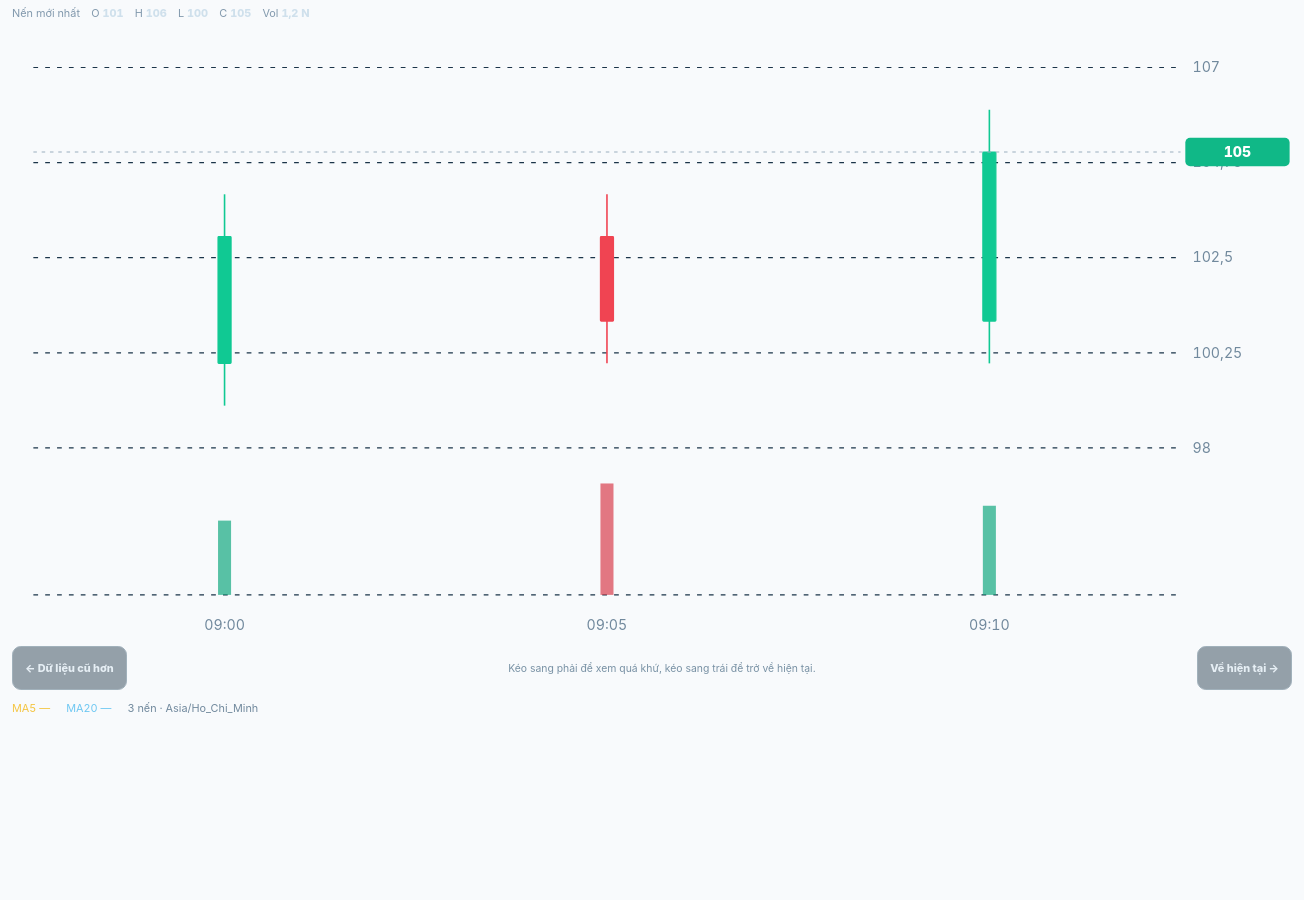
Test: MarketCandlestickChart › shows OHLC, volume, and candle movement on hover and keyboard focus
Hover over the button named "Xem nến" at (224, 331), box [33, 68, 416, 595]
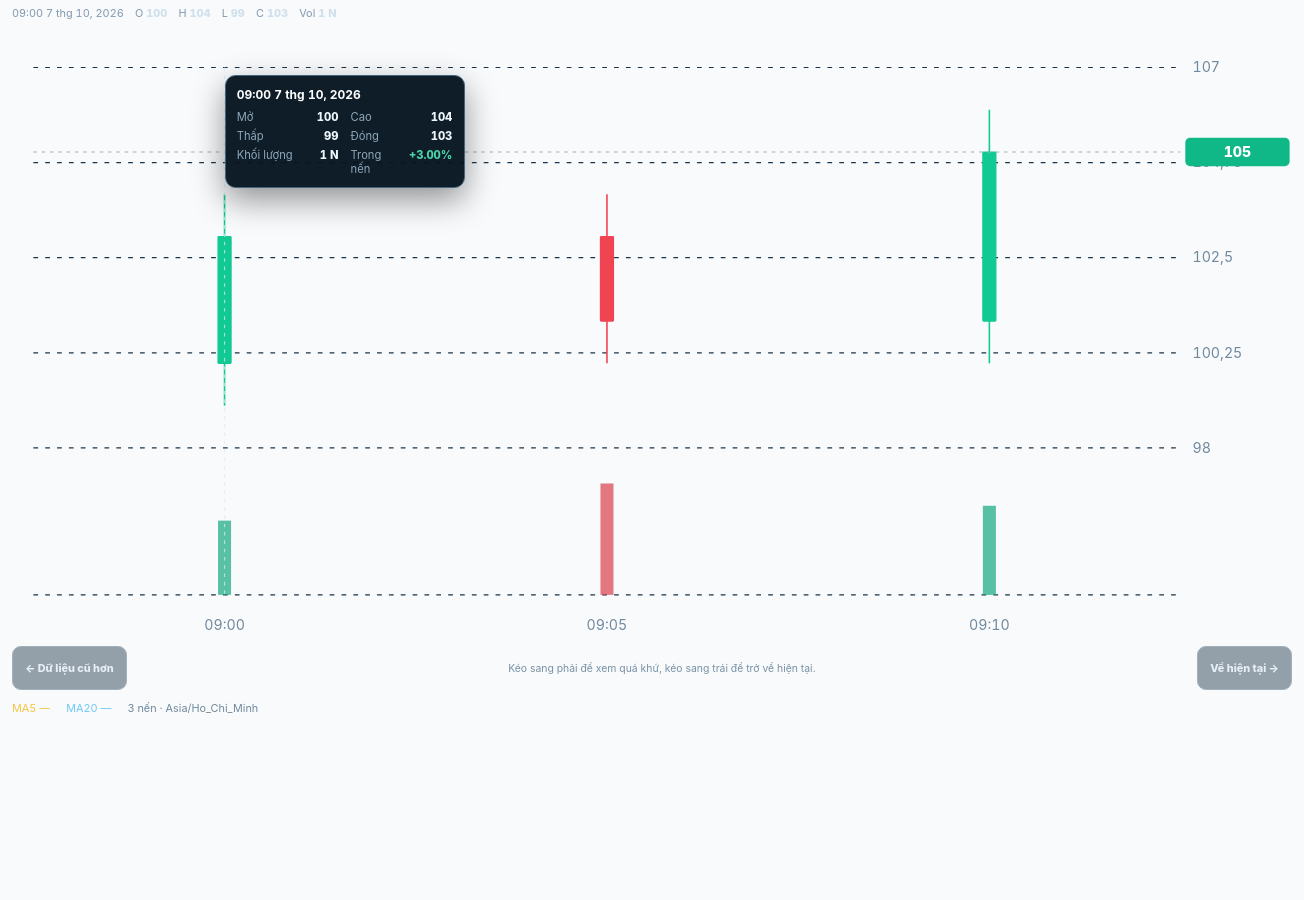
Result: the text "100" next to "Mở" is shown at [317, 110, 339, 124]
Result: the text "104" next to "Cao" is shown at [431, 110, 452, 124]
Result: the text "99" next to "Thấp" is shown at [324, 129, 339, 143]
Move the pointer off the button named "Xem nến", box [33, 68, 416, 595]
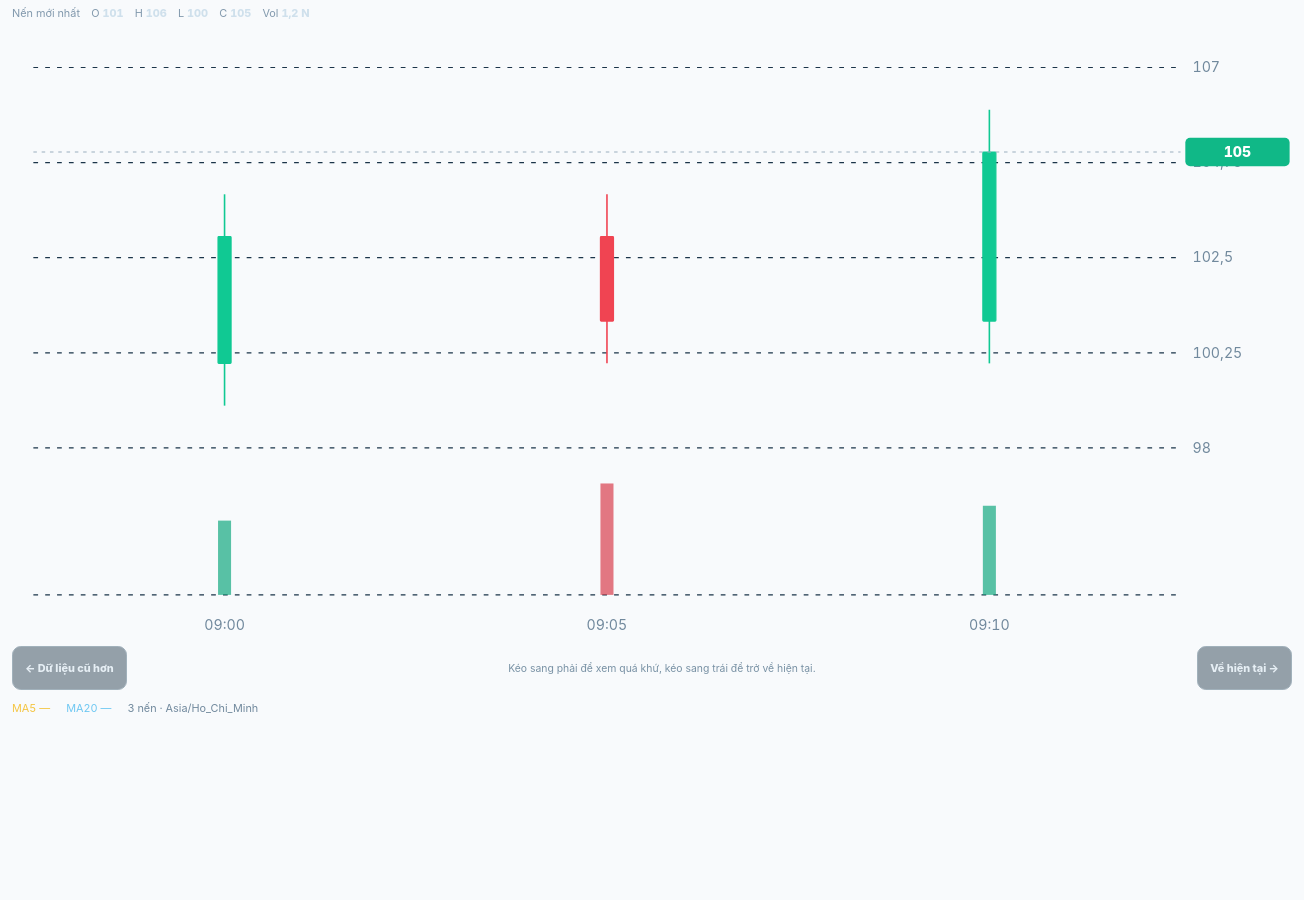
Focus the button named "Xem nến" at (607, 331), box [416, 68, 798, 595]
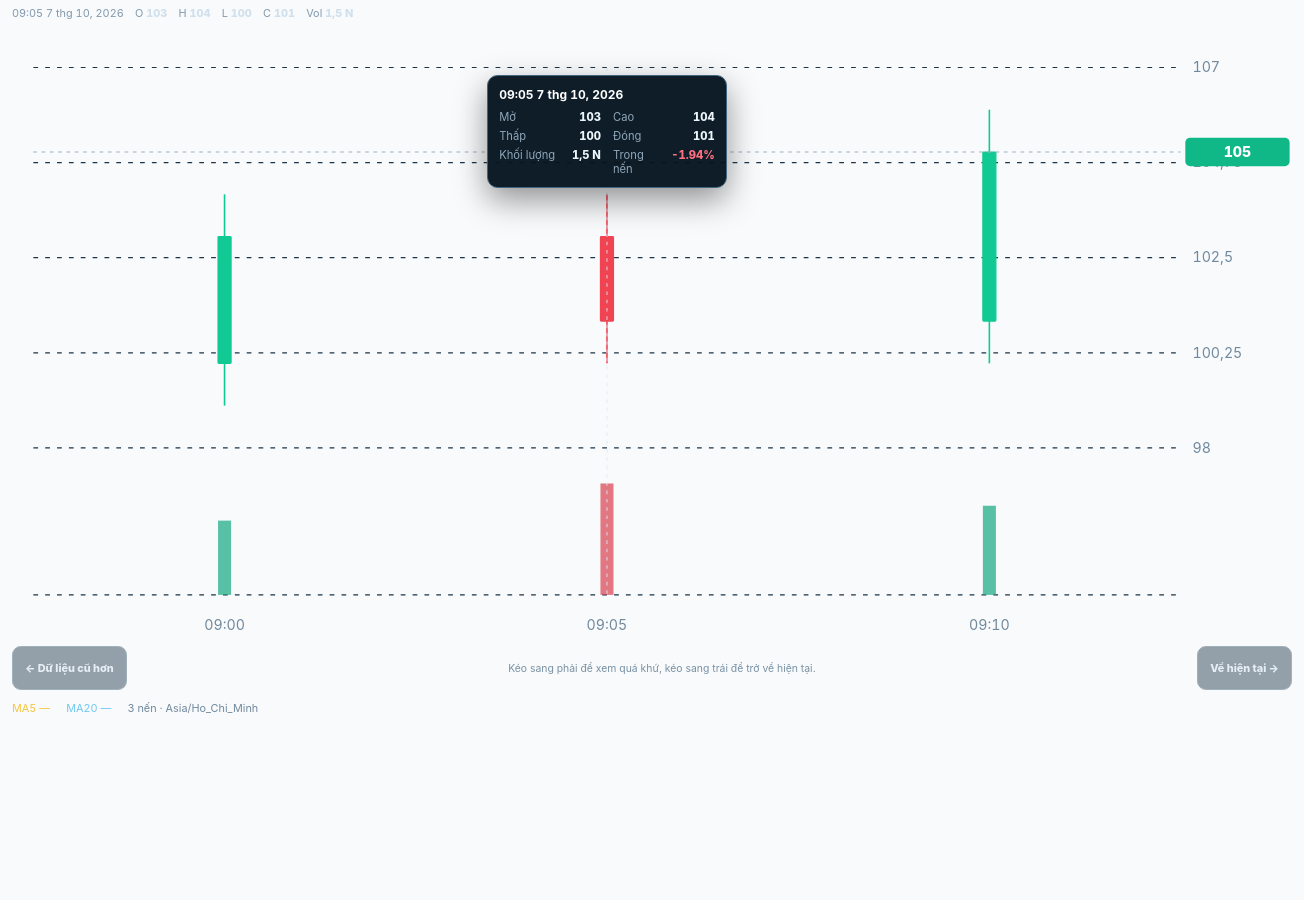
Result: the element named "Thông tin cây nến đang chọn" is shown at [487, 75, 727, 188]
